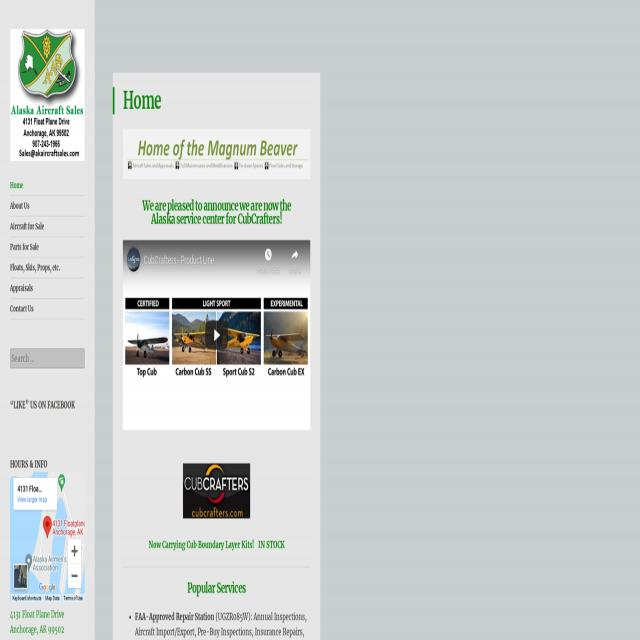button: (124, 240, 310, 430), (10, 29, 84, 161), (10, 474, 84, 606), (123, 129, 310, 179), (183, 464, 250, 518), (10, 196, 84, 216), (10, 216, 84, 236), (10, 237, 84, 257), (10, 258, 84, 278), (10, 278, 84, 298), (10, 298, 84, 318), (254, 241, 281, 282), (284, 241, 306, 282), (10, 176, 43, 196), (206, 321, 228, 348), (13, 564, 28, 589), (127, 247, 141, 273), (68, 539, 81, 564), (68, 564, 81, 588), (42, 514, 52, 540)
field: (10, 348, 84, 368)
